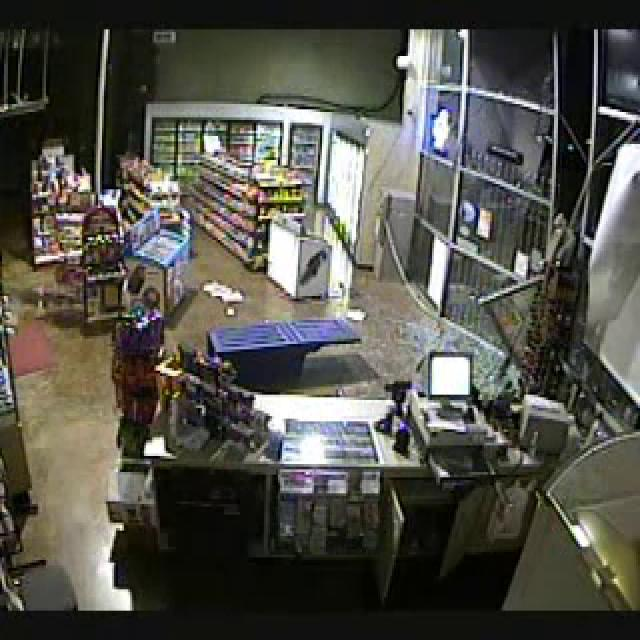burglary: (22, 150, 541, 478)
